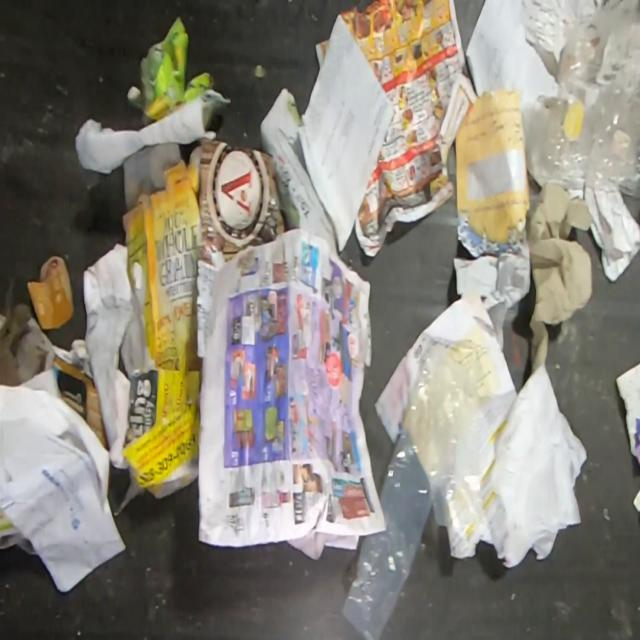cardboard: (122, 139, 199, 372), (184, 136, 288, 270), (26, 255, 74, 332)
rigid_plastic: (542, 13, 640, 199)
soft_plastic: (341, 344, 484, 639)
